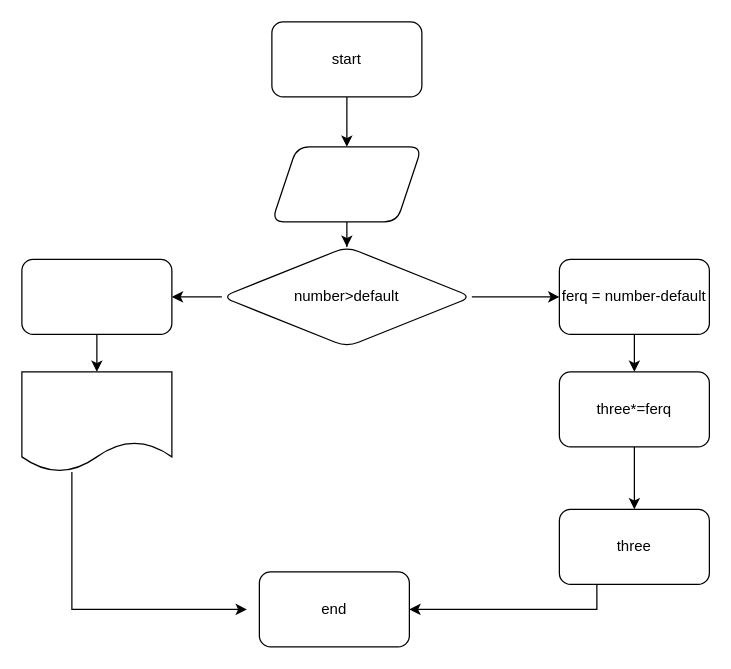
Some shapes in this 731 by 669 pixel diagram are drawn without their labels. Each missing label, with the centre of its shape:
ferq: [96,421]
ferqi=default-number: [96,296]
number=28 default=70 three =3 menimsenilen;: [346,184]
